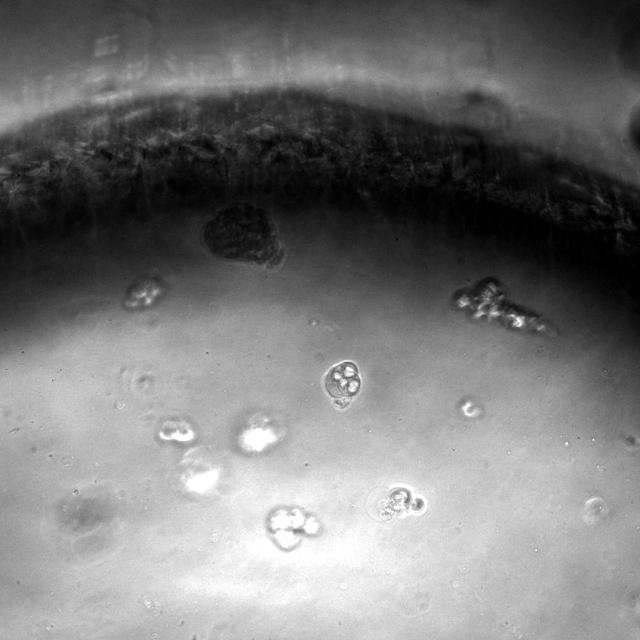organoid: (453, 277, 550, 333), (203, 202, 284, 267), (265, 506, 321, 550), (365, 484, 425, 522), (322, 360, 362, 410), (124, 277, 164, 307)
